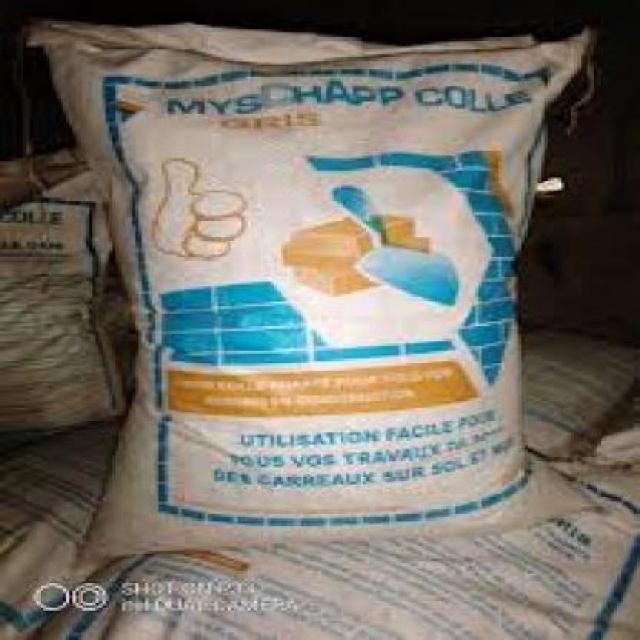gunny_bag: (20, 20, 607, 565)
